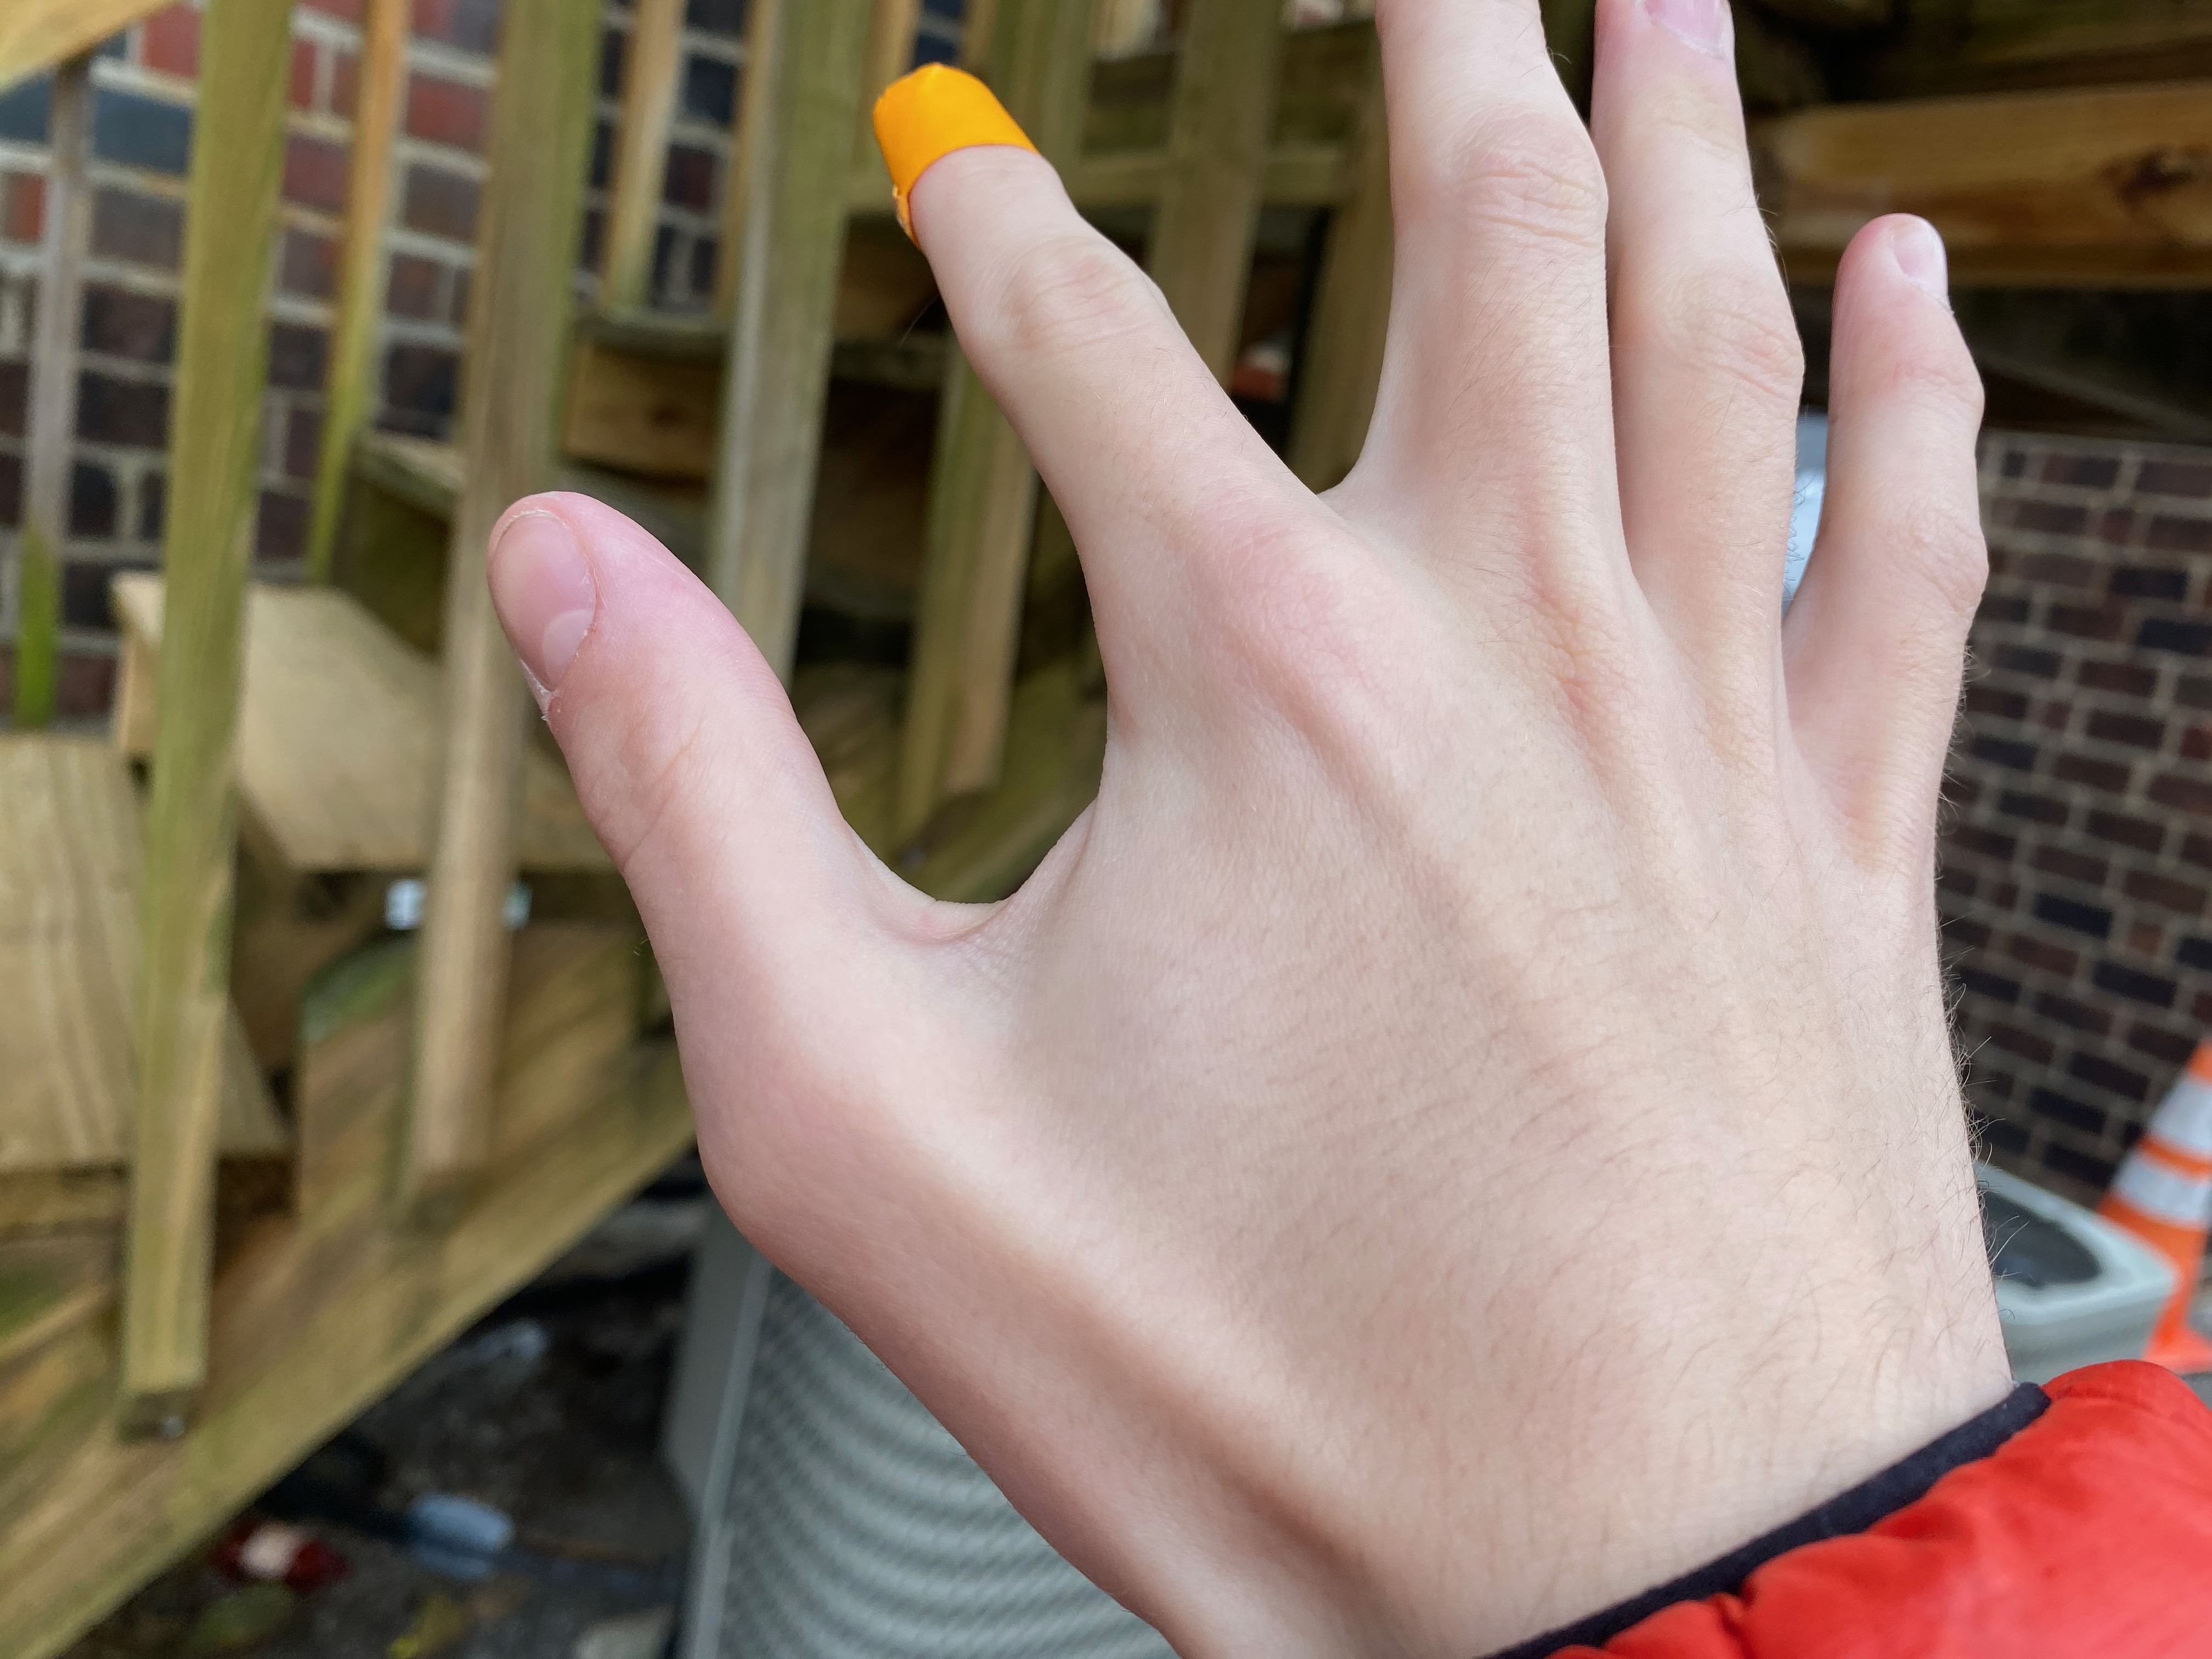fingertip: (846, 58, 1057, 272)
